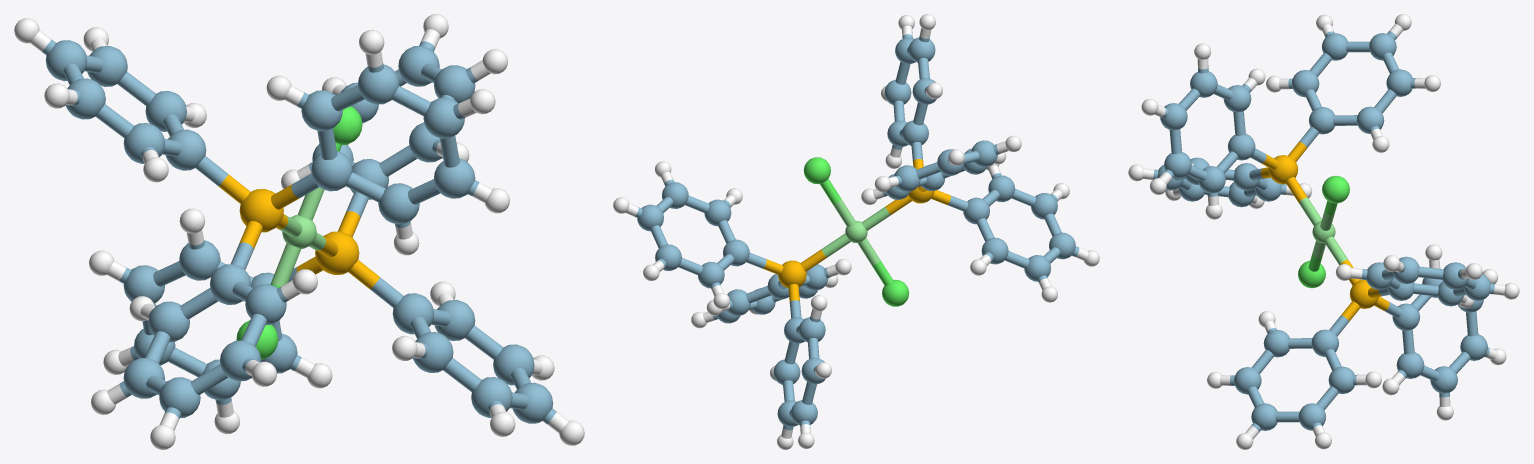
File: VitaminB₁₂1.fbx
3 views of the same model, side by side, from view 1: azimuth 30°, elevation 25°; view 2: azimuth 150°, elevation 25°; view 3: azimuth 270°, elevation 25° (orthographic). The views are drawn at different scales.
Parts seen in each view (by area): view 1: skp1867; view 2: skp1867; view 3: skp1867.
Part boxes in pixels (x1,y1,x2,y2): skp1867: (14, 14, 584, 449); skp1867: (613, 14, 1099, 449); skp1867: (1128, 14, 1519, 449).
Bounding box in the file's own units: 2.3 × 2.3 × 2.24.
